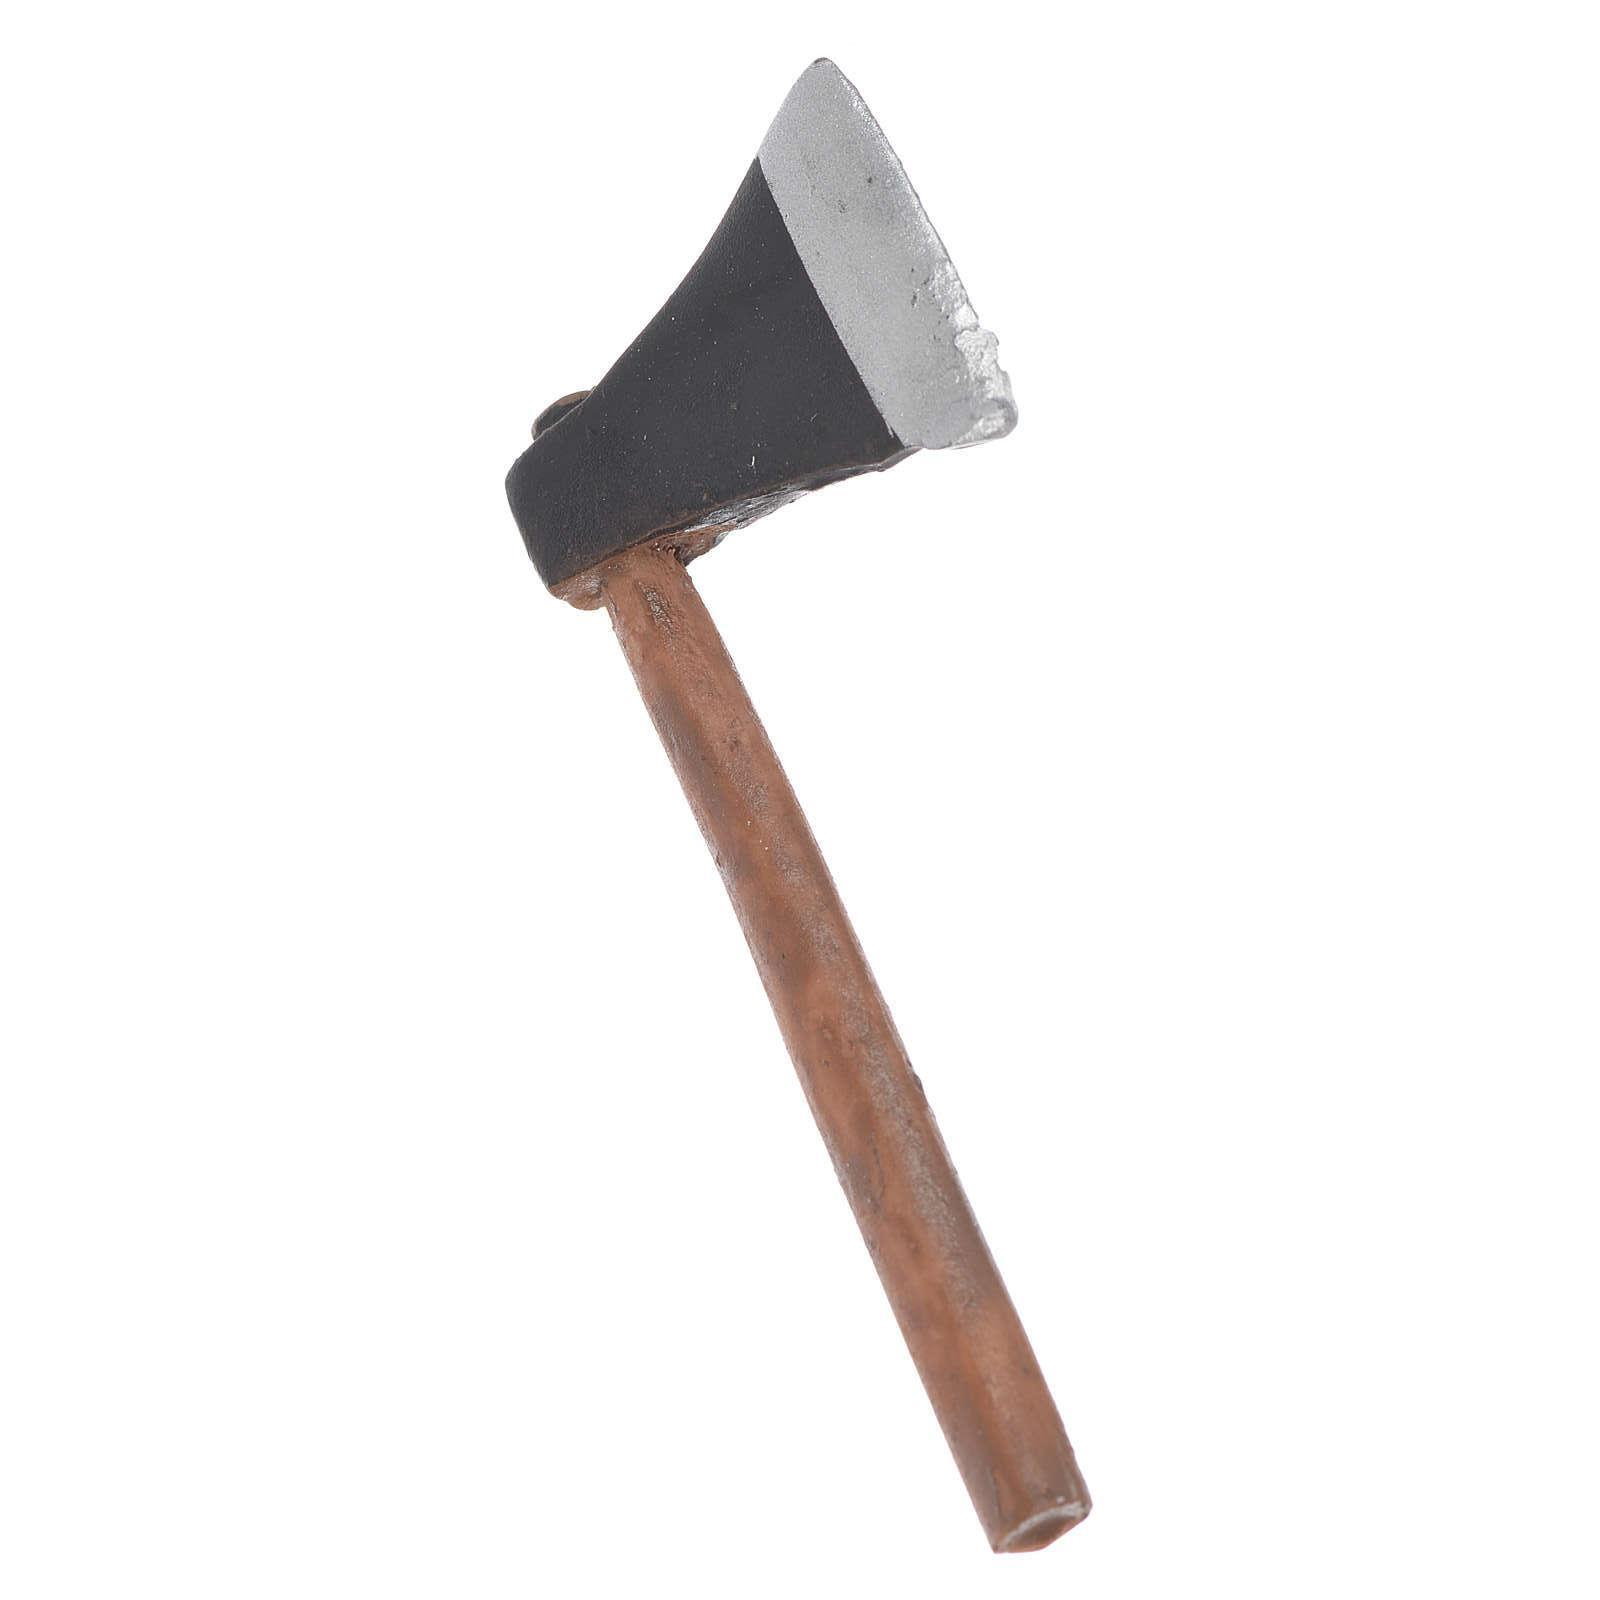machado: (507, 59, 1090, 1552)
